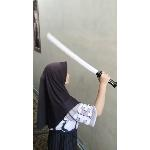Pedang: (44, 31, 118, 90)
